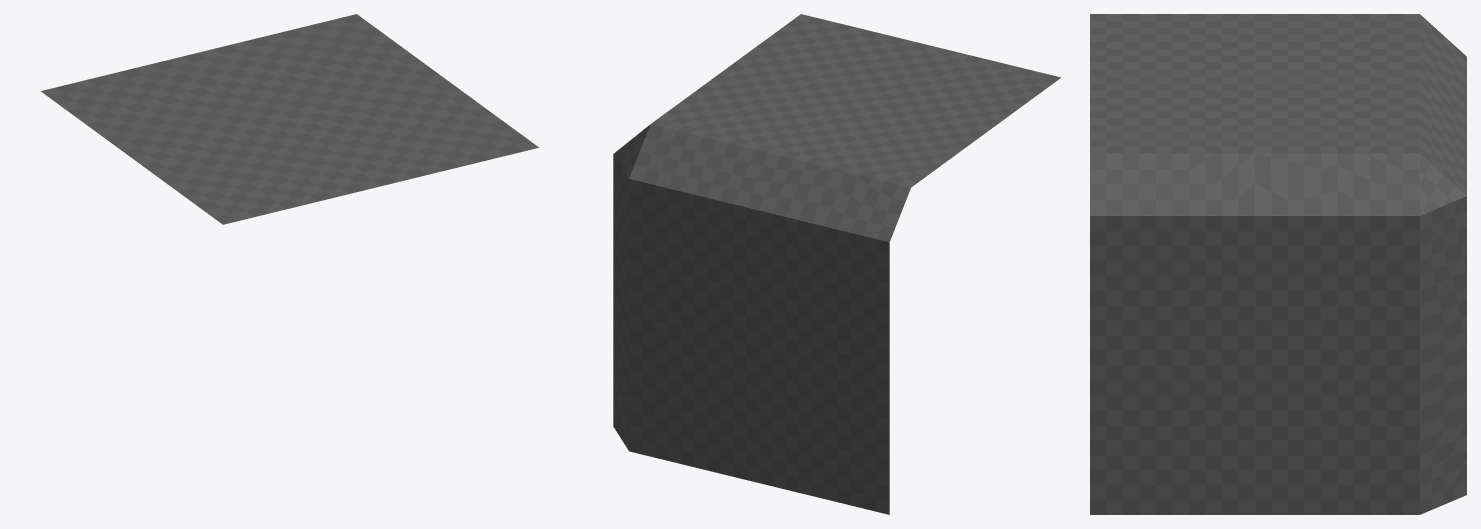
The picture shows the model from 3 angles, left to right: view 1: azimuth 30°, elevation 25°; view 2: azimuth 150°, elevation 25°; view 3: azimuth 270°, elevation 25°; orthographic projection. The views are drawn at different scales.
Visible parts, largest first — view 1: 0; view 2: 0; view 3: 0.
Part boxes in pixels (box(x1,y1,x2,y2)): 0: box(41, 14, 538, 224); 0: box(613, 14, 1061, 514); 0: box(1090, 14, 1466, 514).
Size of the model in its own units: 2 by 2 by 2.
1 material, 1 textured.
